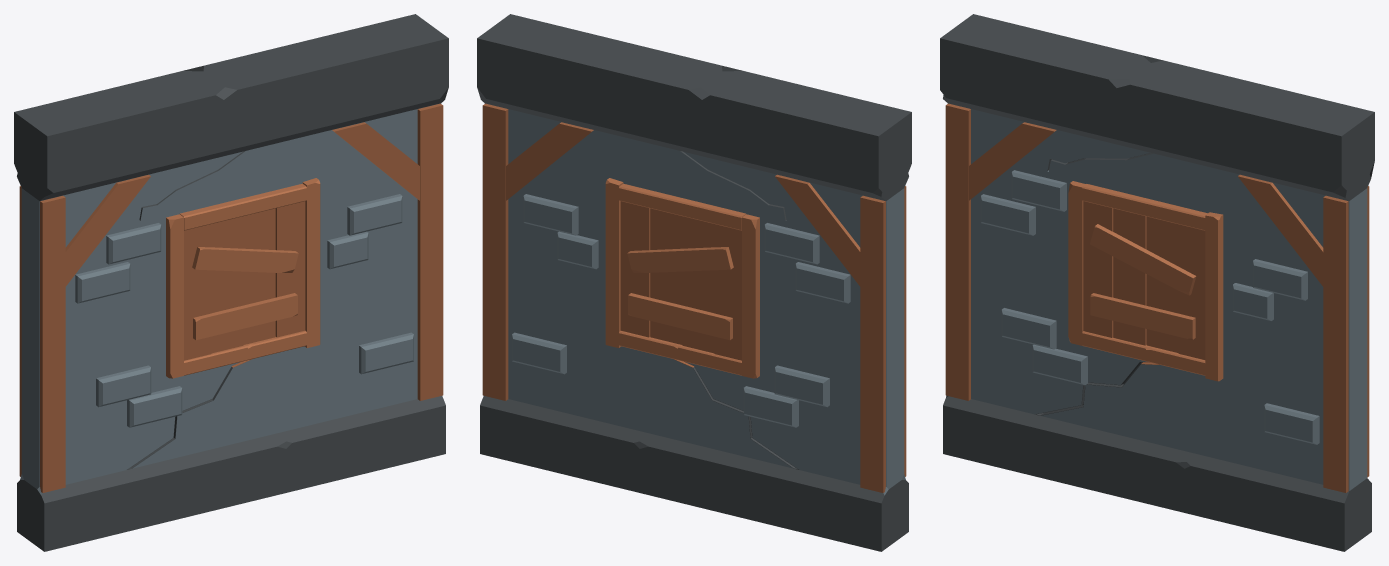
File: wall_2_4.obj
3 views of the same model, side by side, from view 1: azimuth 30°, elevation 25°; view 2: azimuth 150°, elevation 25°; view 3: azimuth 330°, elevation 25° (orthographic).
Parts seen in each view (by area): view 1: wall_2_4; view 2: wall_2_4; view 3: wall_2_4.
Part boxes in pixels (left/top/right/bottom): wall_2_4: left=14, top=14, right=448, bottom=551; wall_2_4: left=477, top=14, right=911, bottom=551; wall_2_4: left=940, top=14, right=1374, bottom=551.
Bounding box in the file's own units: 1.54 × 1.53 × 0.2204.
